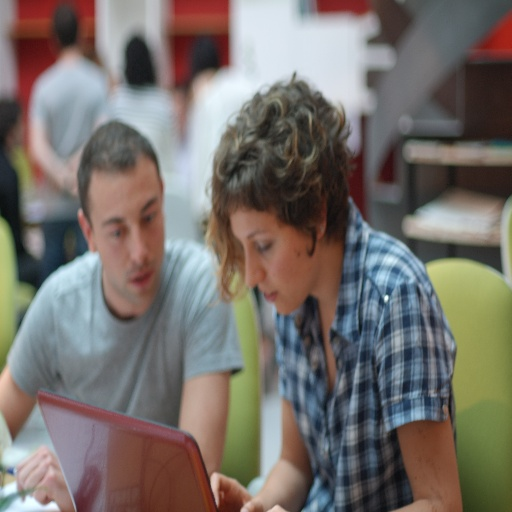hand: (7, 436, 53, 507), (208, 470, 266, 511), (265, 504, 288, 511)
